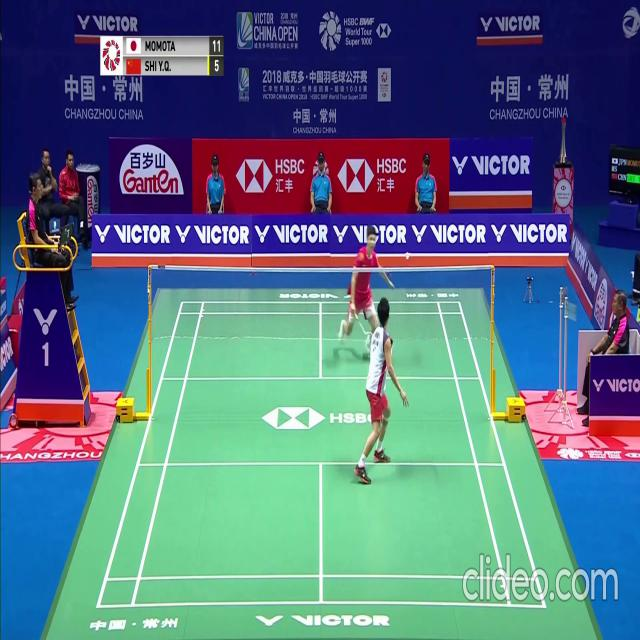Shuttlecock: (405, 250, 409, 258)
